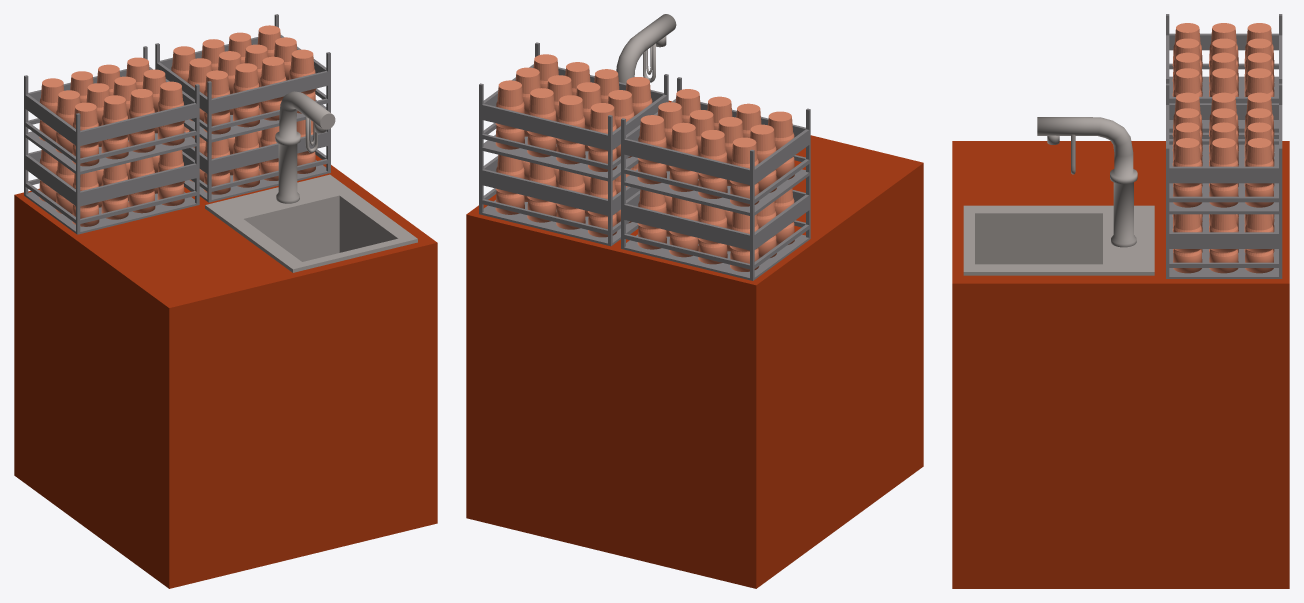
The model's file is WaterServer.fbx.
3 renders of one model, left to right at view 1: azimuth 30°, elevation 25°; view 2: azimuth 150°, elevation 25°; view 3: azimuth 270°, elevation 25°, orthographic. The views are drawn at different scales.
Visible parts, largest first — view 1: Stand, Cup, Basket, Sink, Faucet; view 2: Stand, Cup, Basket, Faucet; view 3: Stand, Cup, Basket, Sink, Faucet.
Boxes of the visible parts, x1,y1,x2,y2 form: Stand: [14, 155, 437, 588]; Cup: [39, 25, 315, 226]; Basket: [24, 14, 330, 234]; Sink: [205, 174, 417, 272]; Faucet: [275, 91, 335, 203]; Stand: [466, 100, 923, 588]; Cup: [495, 54, 794, 271]; Basket: [479, 42, 810, 280]; Faucet: [616, 14, 676, 83]; Stand: [952, 141, 1289, 588]; Cup: [1172, 23, 1274, 273]; Basket: [1166, 14, 1282, 278]; Sink: [963, 205, 1154, 275]; Faucet: [1037, 117, 1137, 247].
Bounding box in the file's own units: 200 × 285 × 200.
